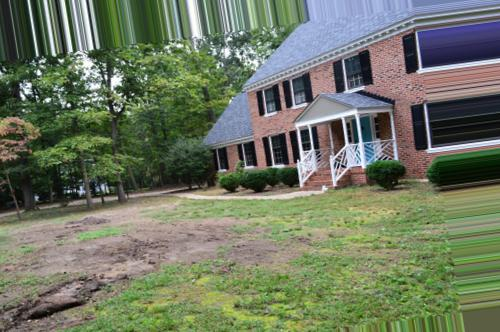patch: (108, 222, 207, 251), (40, 282, 101, 317), (47, 234, 103, 267), (229, 237, 286, 267), (122, 197, 168, 219), (44, 211, 98, 222), (112, 260, 152, 273)
